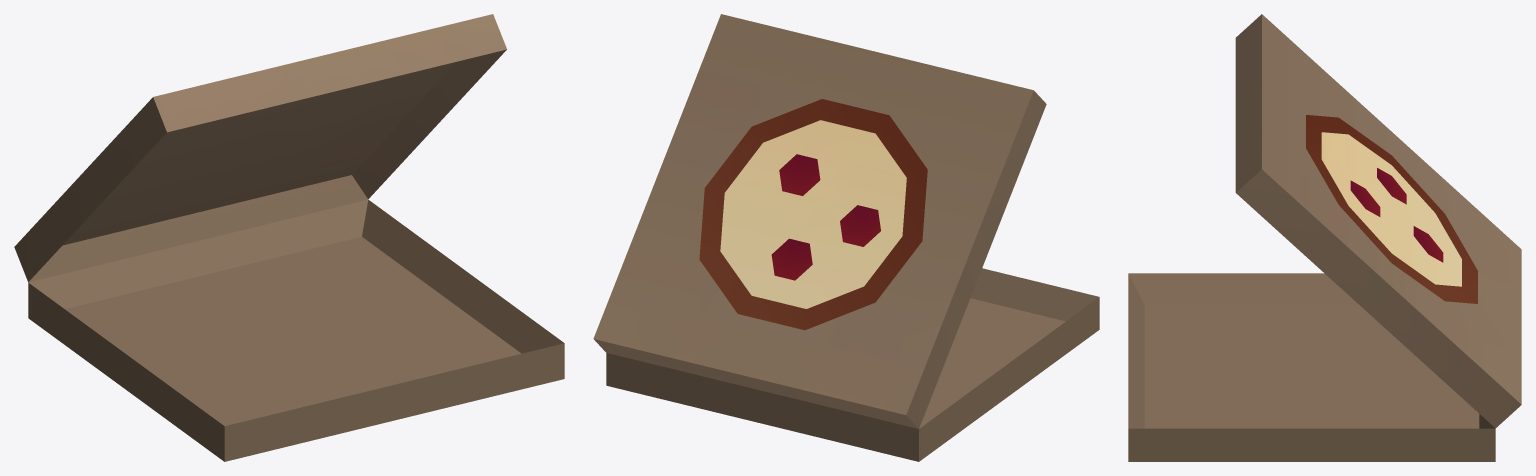
Rendered from pizza.fbx.
3 views of the same model, side by side, from view 1: azimuth 30°, elevation 25°; view 2: azimuth 150°, elevation 25°; view 3: azimuth 270°, elevation 25° (orthographic). The views are drawn at different scales.
Visible parts, largest first — view 1: pizza-box; view 2: pizza-box; view 3: pizza-box.
Boxes of the visible parts, <box> form: pizza-box: <box>14,14,564,461</box>; pizza-box: <box>593,14,1099,461</box>; pizza-box: <box>1128,14,1521,461</box>.
Size of the model in its own units: 40 by 35.14 by 42.84.
Materials: 1 (1 with a texture image).
